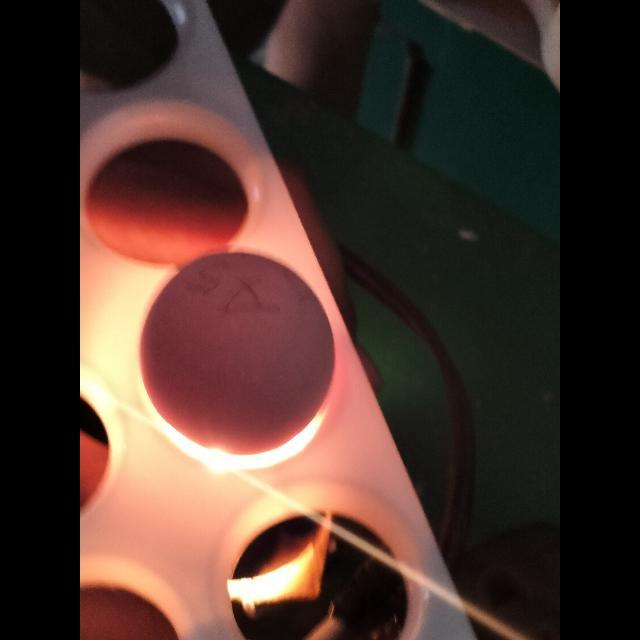Fertile: (138, 251, 336, 444)
